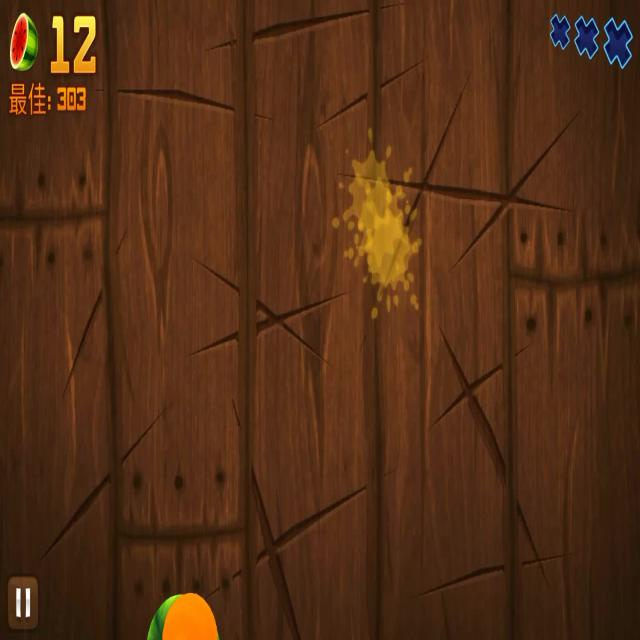fruit: (163, 589, 221, 640), (145, 595, 182, 640)
